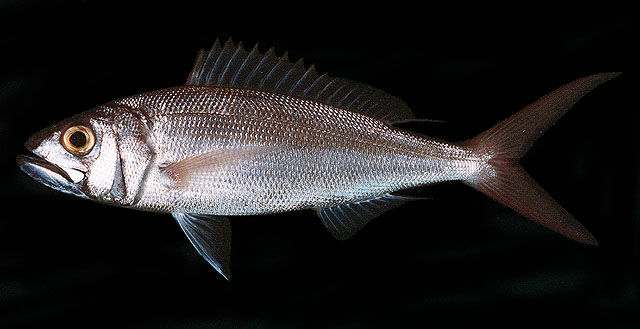fish: (20, 41, 612, 277)
